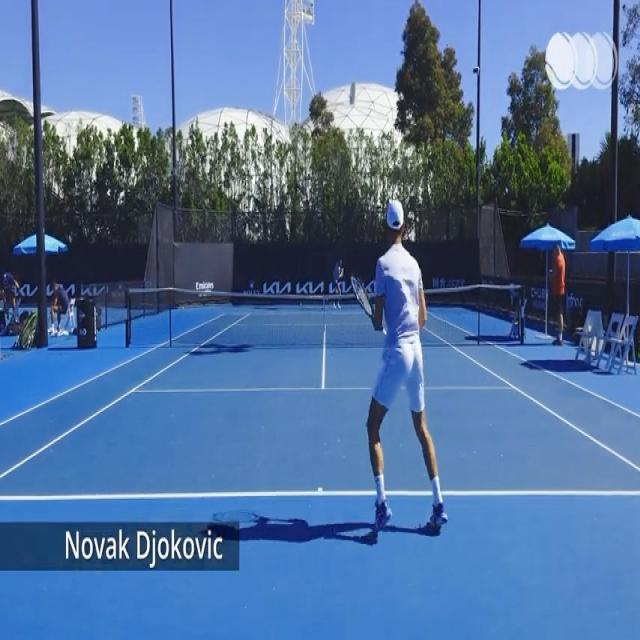ready-position: (350, 203, 450, 530)
